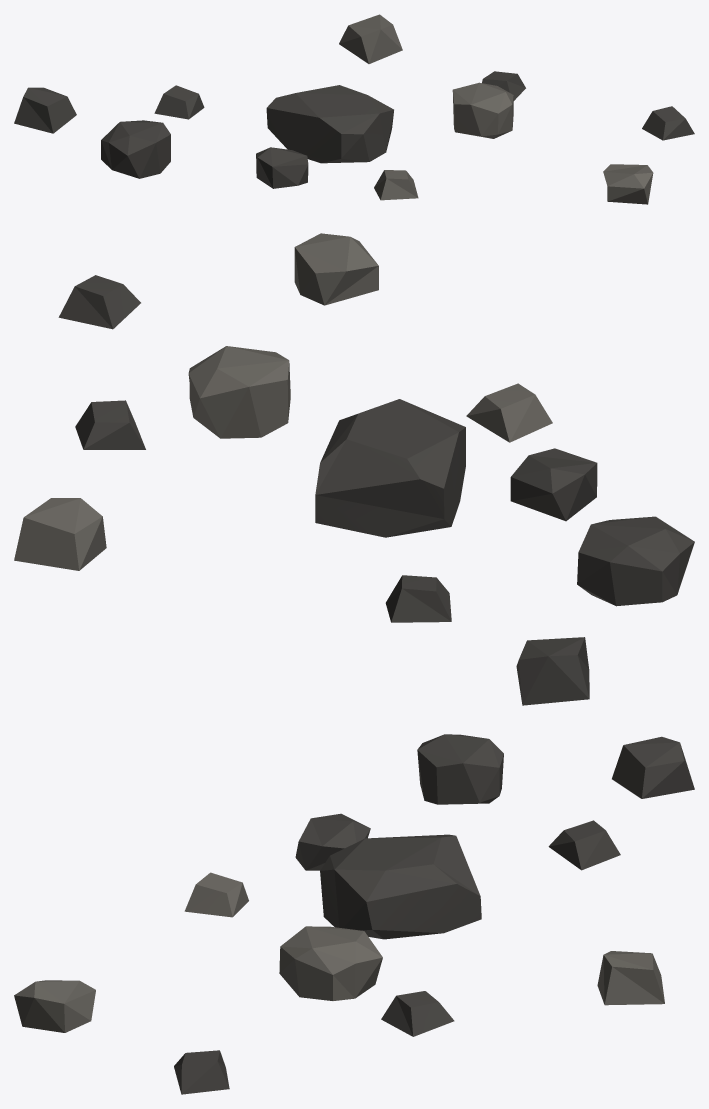
The model's file is SM_Env_Rocks_Small_01.obj.
3 renders of one model, top to bottom at view 1: azimuth 30°, elevation 25°; view 2: azimuth 150°, elevation 25°; view 3: azimuth 270°, elevation 25°, orthographic. The views are drawn at different scales.
Visible parts, largest first — view 1: SM_Env_Rocks_Small_01_0; view 2: SM_Env_Rocks_Small_01_0; view 3: SM_Env_Rocks_Small_01_0.
Part boxes in pixels (x1=…): SM_Env_Rocks_Small_01_0: x1=14, y1=14, x2=694, y2=204; SM_Env_Rocks_Small_01_0: x1=14, y1=233, x2=694, y2=705; SM_Env_Rocks_Small_01_0: x1=14, y1=734, x2=694, y2=1094.
Size of the model in its own units: 2.34 by 0.2484 by 2.05.
1 material, 1 textured.
